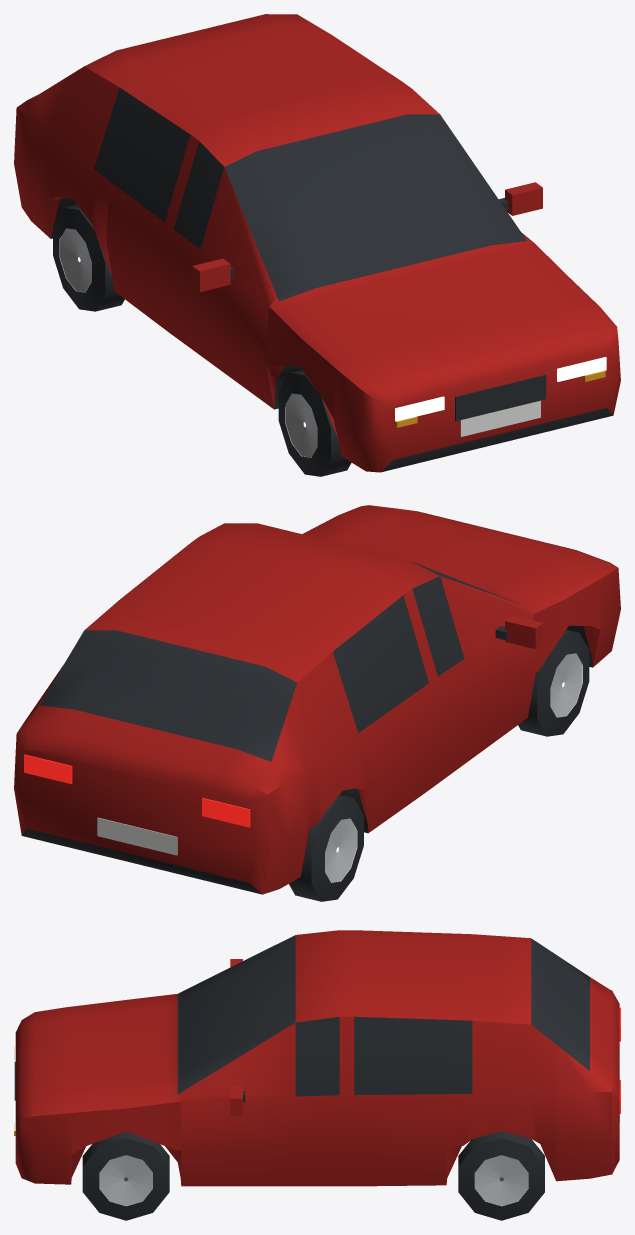
Rendered from hatchback_red_lod1.glb.
3 views of the same model, one above another, from view 1: azimuth 30°, elevation 25°; view 2: azimuth 150°, elevation 25°; view 3: azimuth 270°, elevation 25° (orthographic). The views are drawn at different scales.
Visible parts, largest first — view 1: hatchback_red_lod1; view 2: hatchback_red_lod1; view 3: hatchback_red_lod1.
Part boxes in pixels (x1,y1,x2,y2): hatchback_red_lod1: (14, 14, 620, 476); hatchback_red_lod1: (14, 505, 620, 901); hatchback_red_lod1: (14, 930, 620, 1220).
Size of the model in its own units: 0.112 by 0.0755 by 0.2061.
